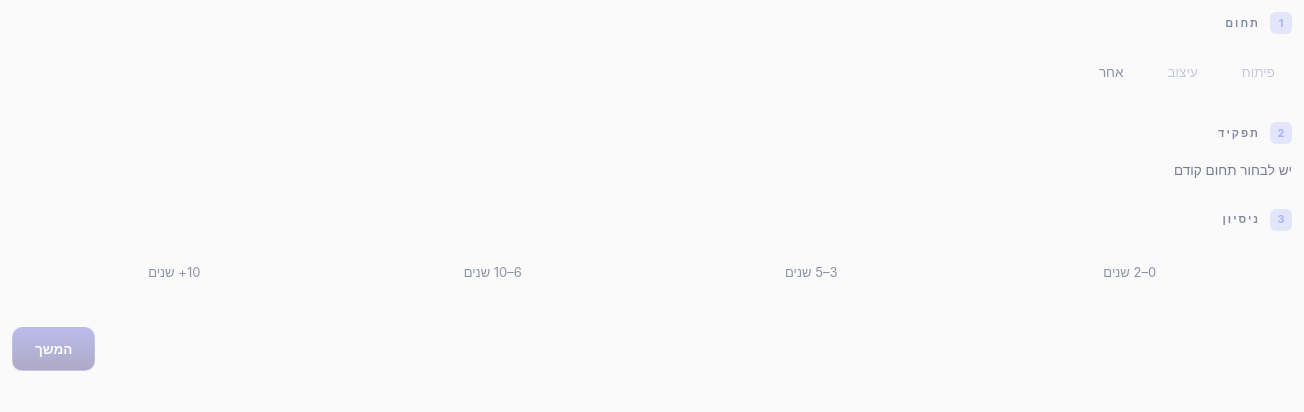
Test: AboutYouStep - unhappy path / edge cases › discards a stale in-flight Role fetch when the Field is changed again before it resolves
Click the button "פיתוח": (1258, 72) [1225,50,1292,94]
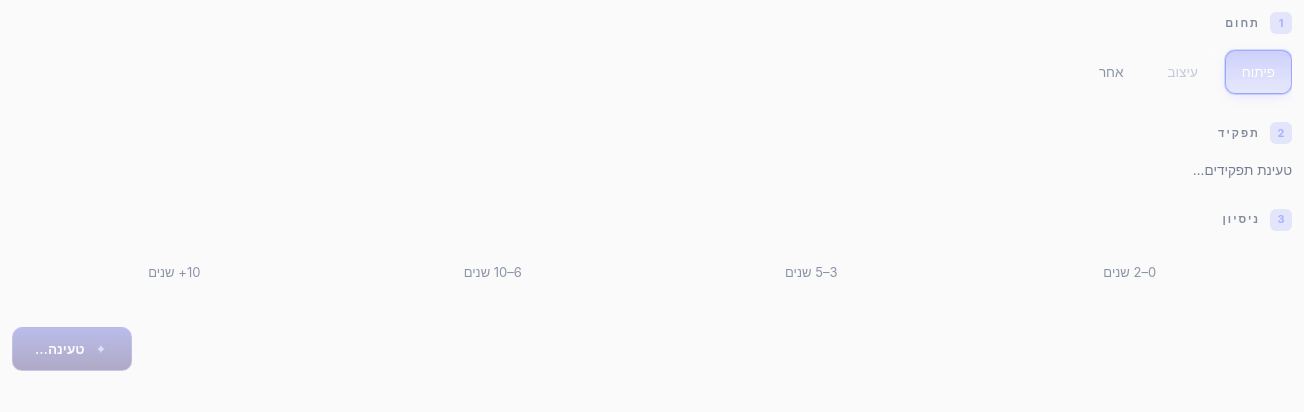
Click the button "עיצוב": (1183, 72) [1150,50,1215,94]
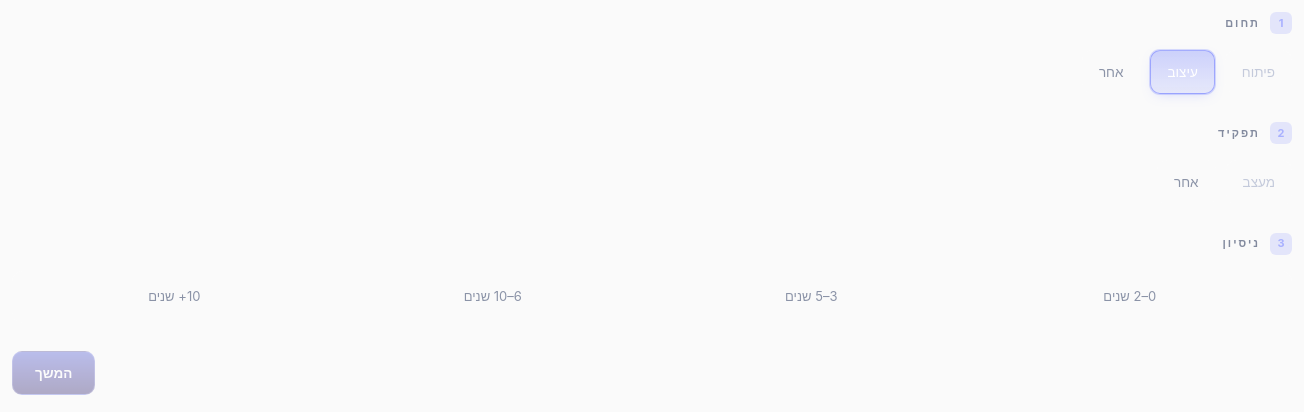
Now the button "מעצב" is shown, box [1226,160,1292,205]
